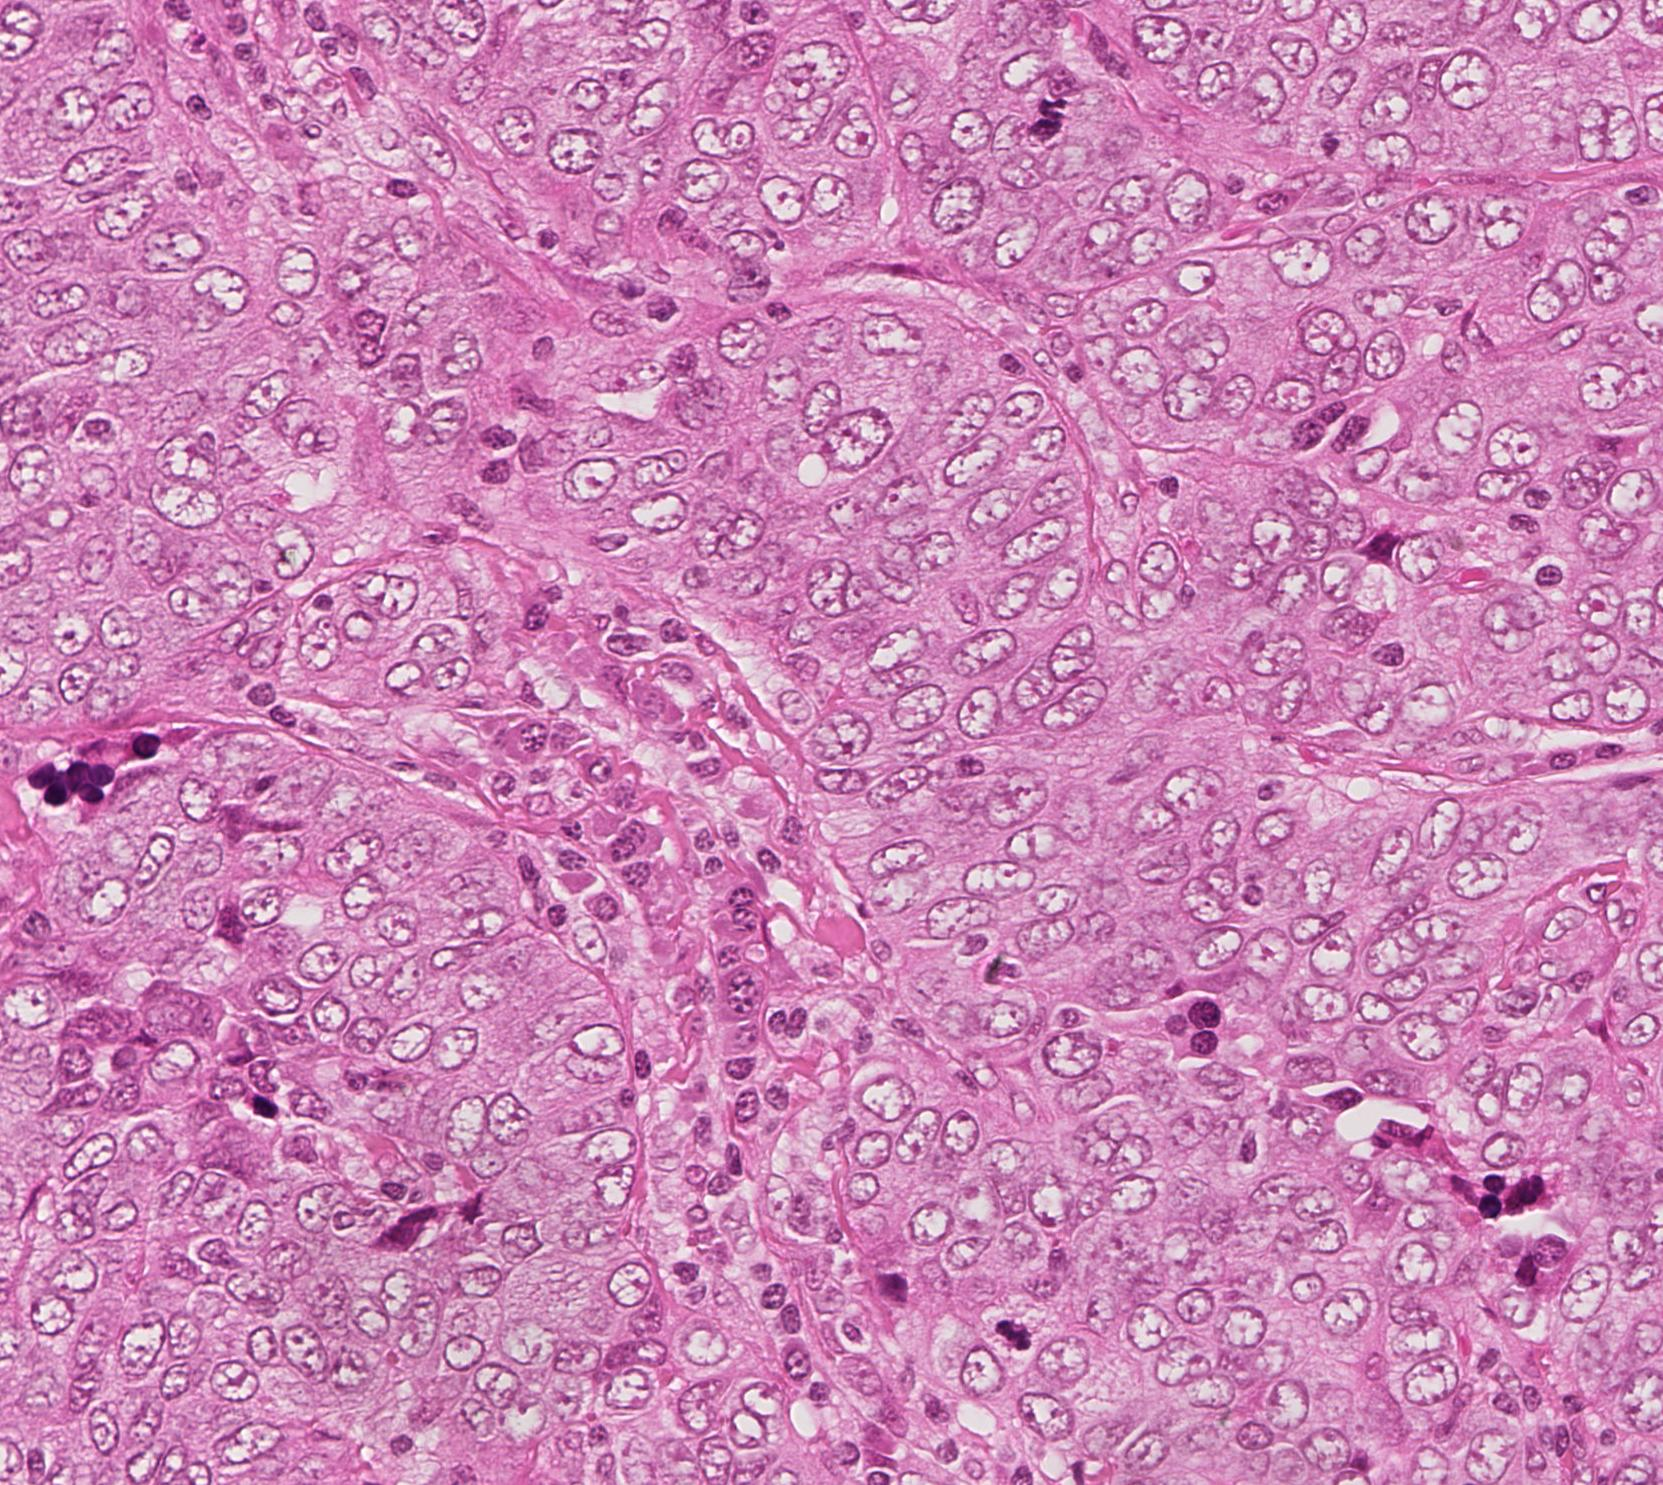mitosis: (985, 1302, 1045, 1362)
